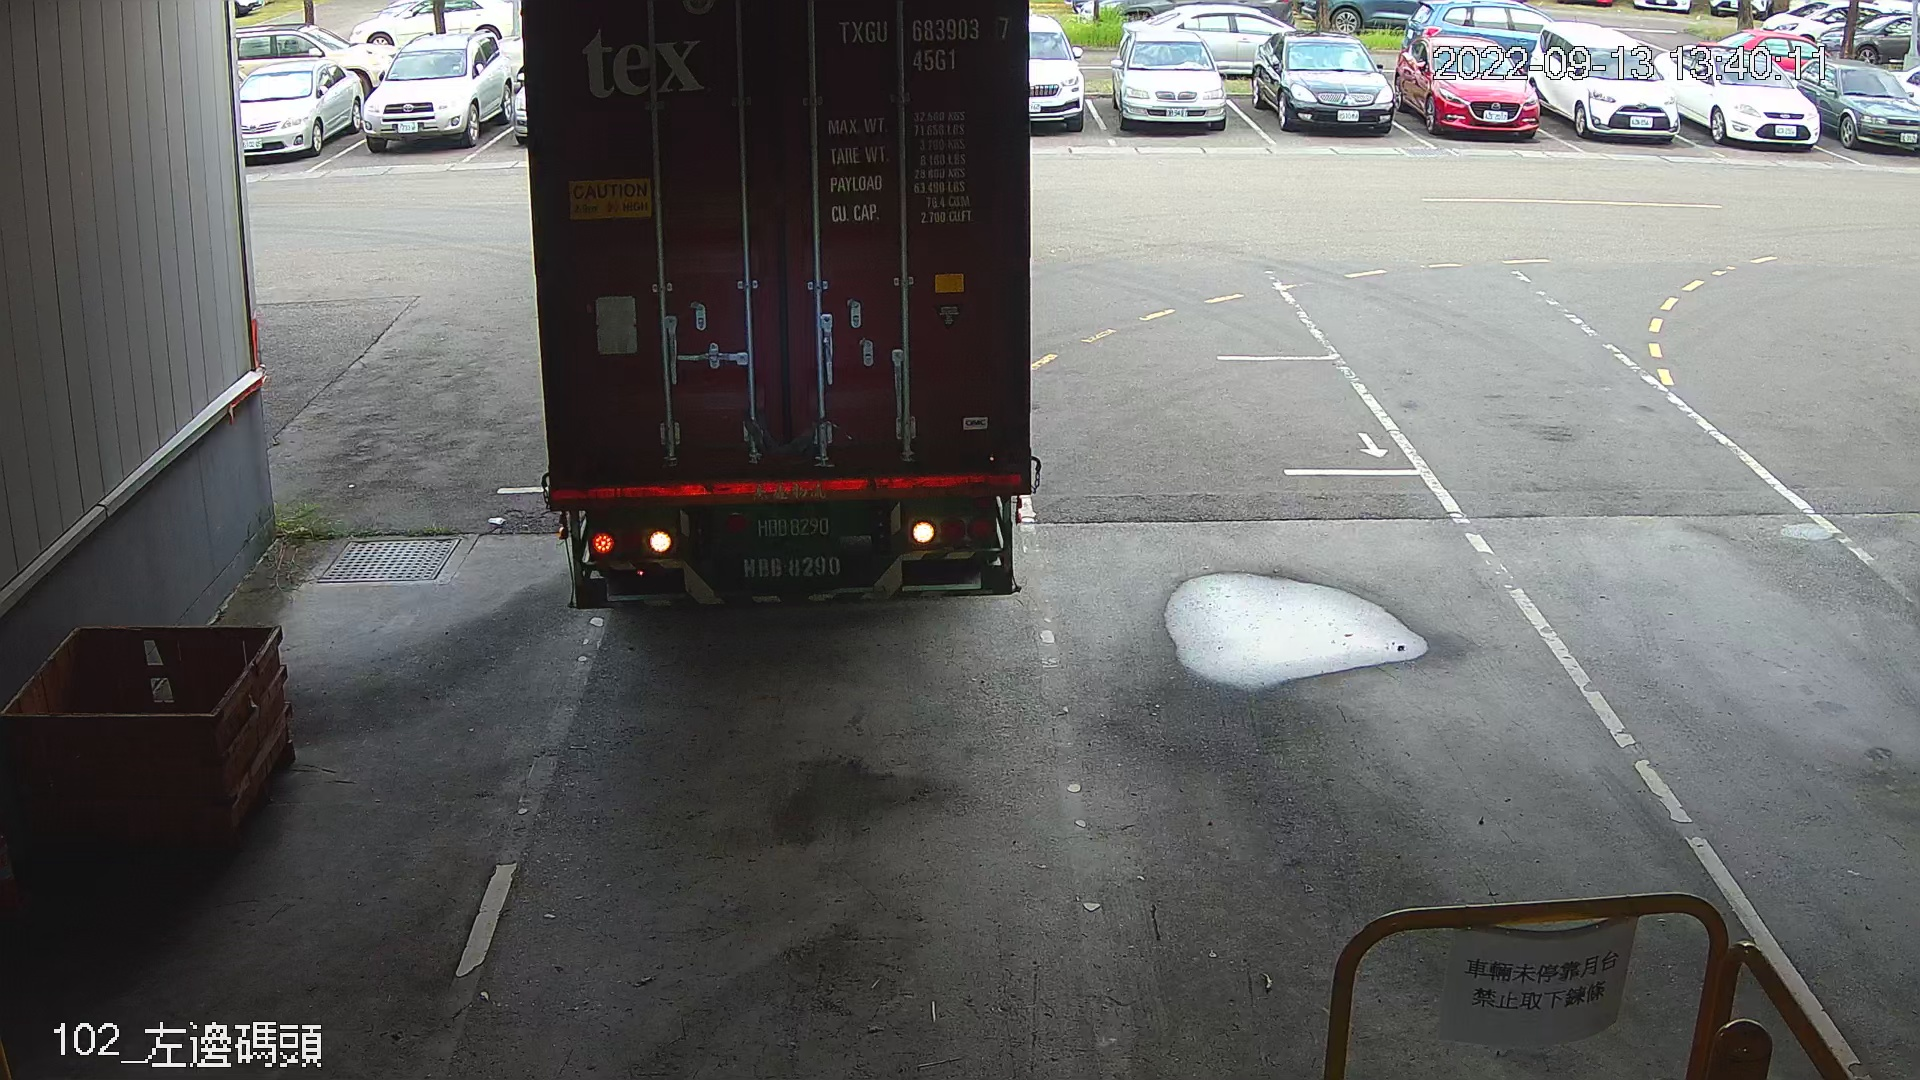container: (828, 7, 1021, 76)
